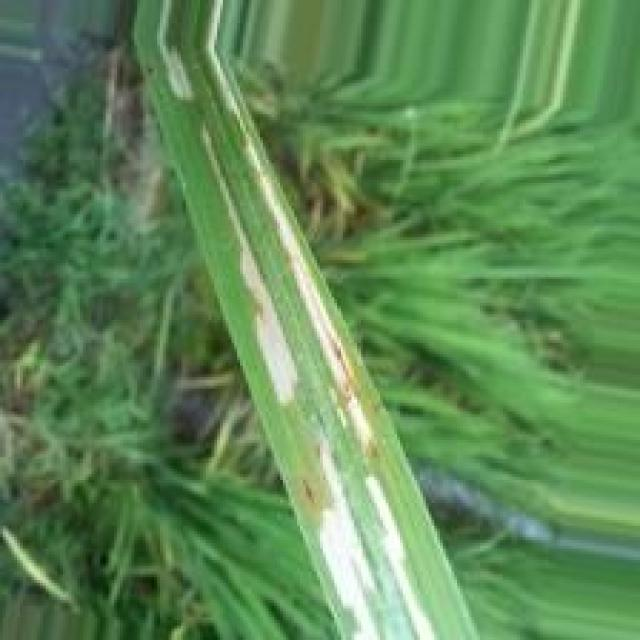Rice_Hispa: (232, 100, 384, 451), (209, 128, 296, 408), (316, 438, 384, 640)
